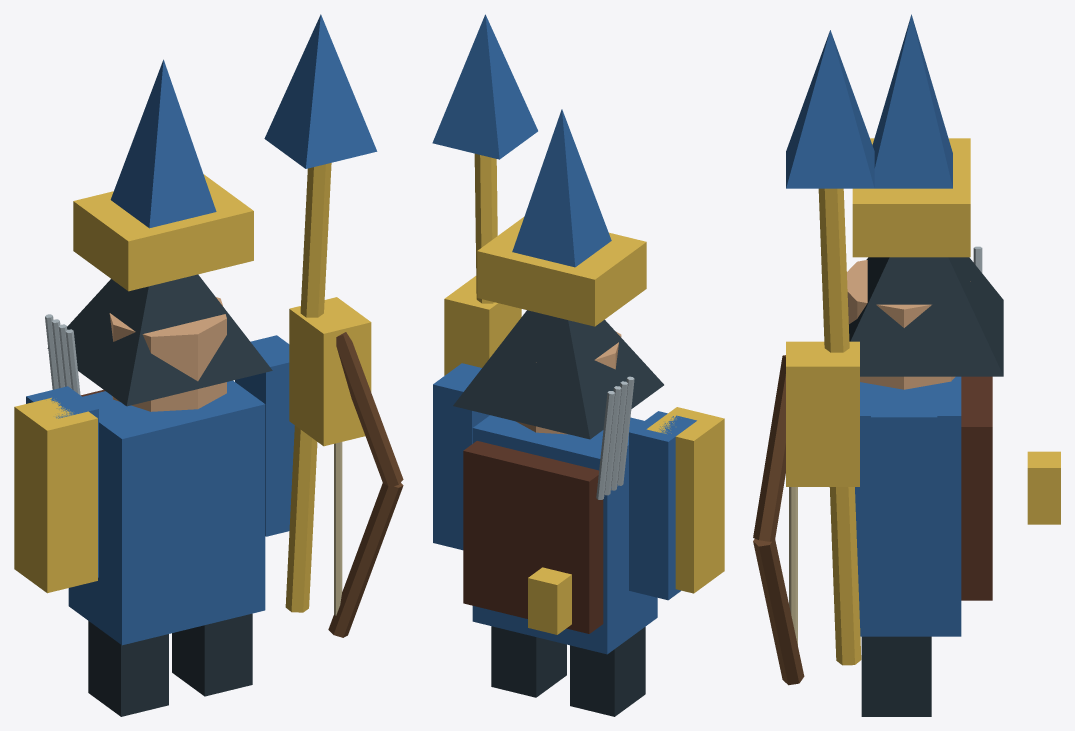
Rendered from scout.obj.
3 views of the same model, side by side, from view 1: azimuth 30°, elevation 25°; view 2: azimuth 150°, elevation 25°; view 3: azimuth 270°, elevation 25° (orthographic). The views are drawn at different scales.
Visible parts, largest first — view 1: ranged; view 2: ranged; view 3: ranged.
Part boxes in pixels (box(x1,y1,x2,y2)): ranged: box(14, 14, 403, 716); ranged: box(432, 14, 724, 716); ranged: box(753, 14, 1060, 716).
Bounding box in the file's own units: 1.05 × 2.14 × 0.8346.
